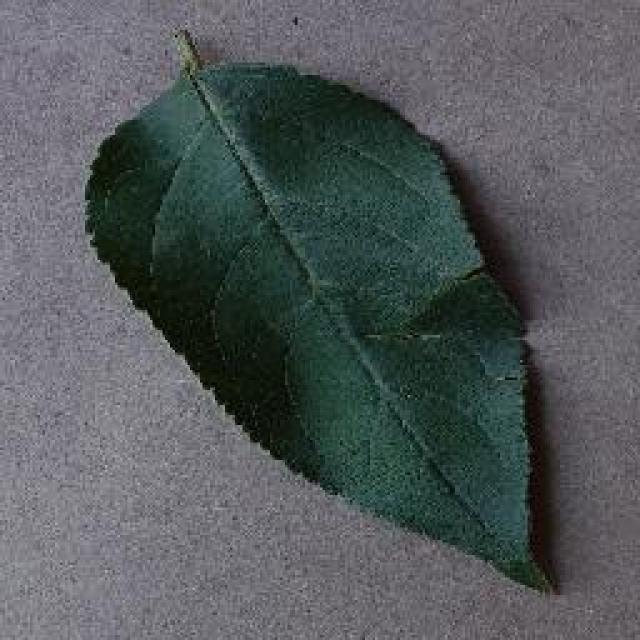apple healthy: (80, 25, 560, 595)
